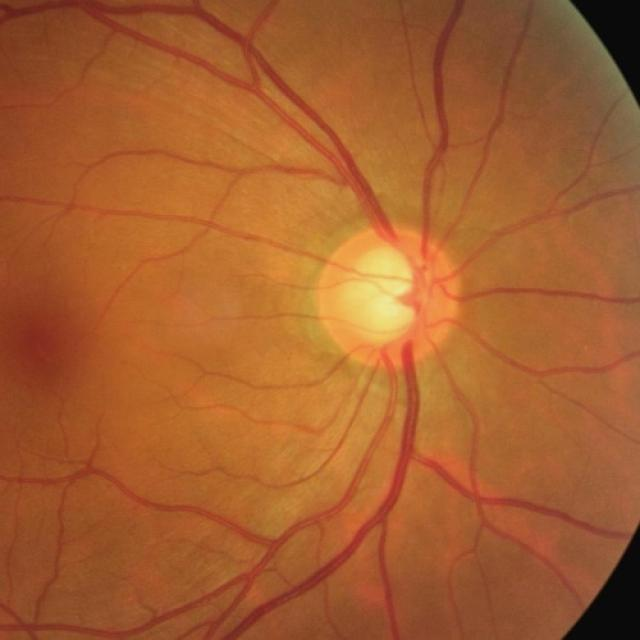OC: (343, 244, 427, 341)
OD: (316, 224, 457, 369)
